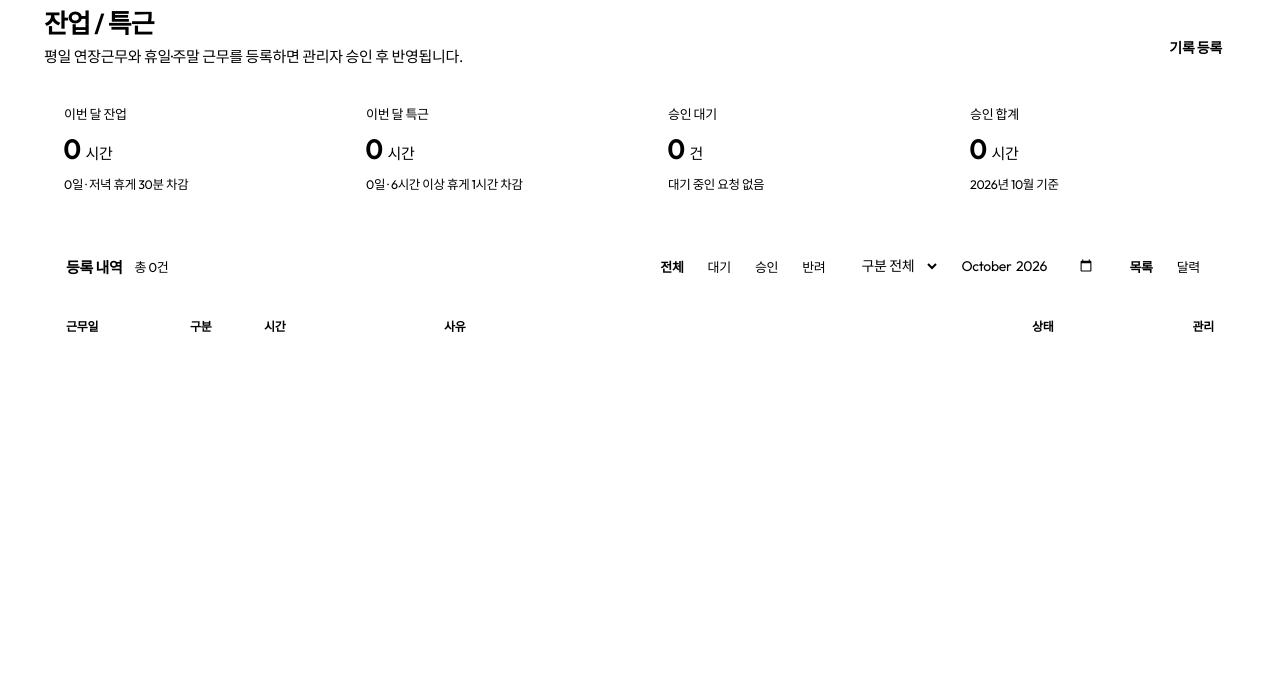
OvertimeRecordsPage — 필터 › 달력으로 이동하면 선택 날짜가 새 조회 월 안으로 맞춰진다
Replace the text in the field named "조회 월" with "2020-01": (1028, 266) [948, 247, 1107, 285]
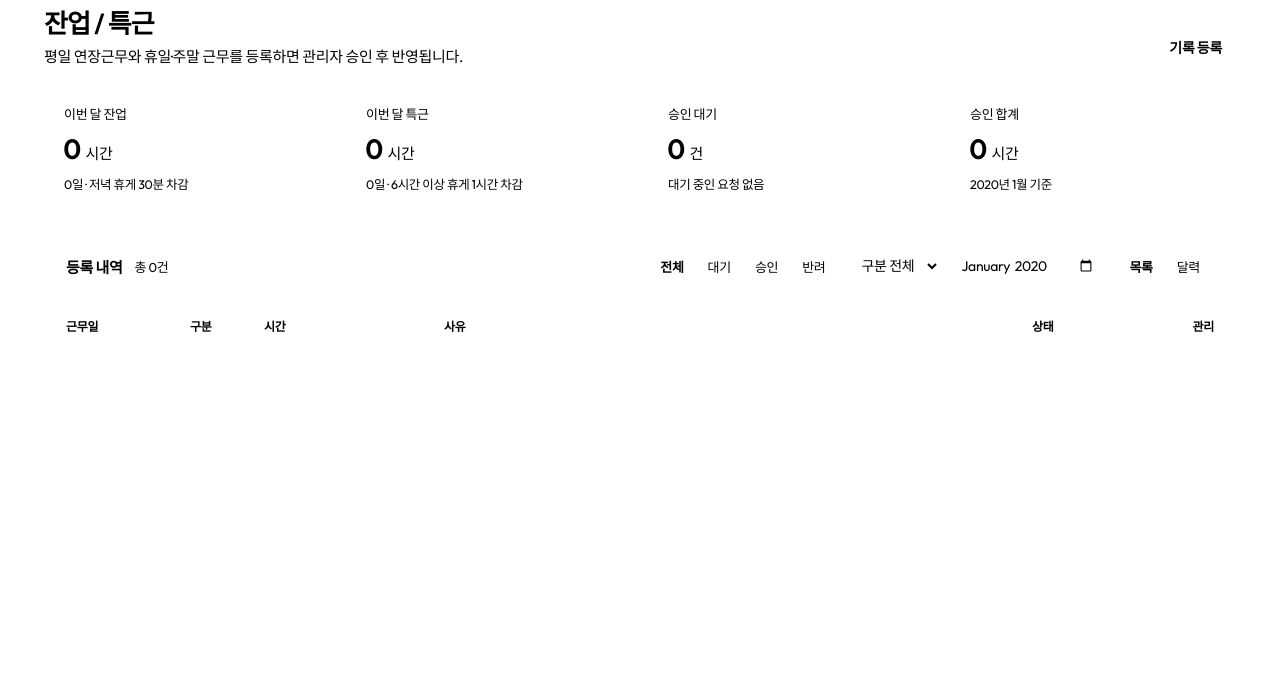
Click the button "달력": (1188, 266) [1166, 252, 1211, 280]
(page scrolled)
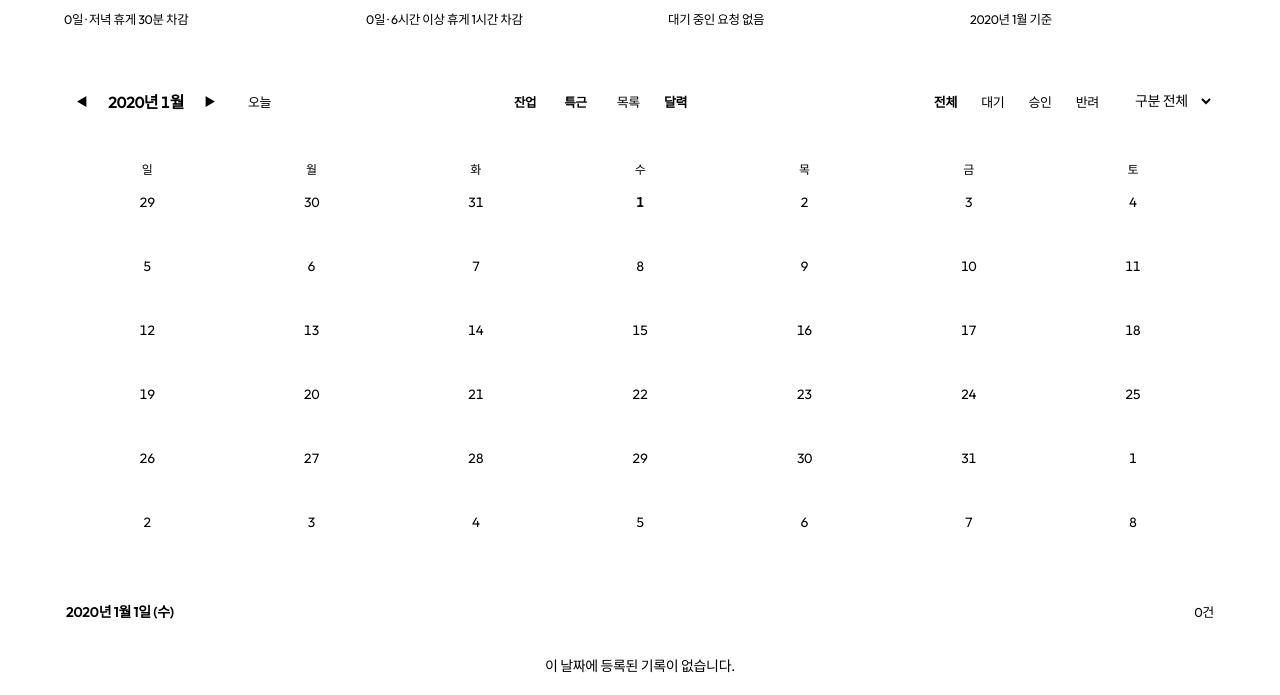
Expected: the text "2020년 1월 1일 (수)" is shown, [66, 601, 174, 621]
